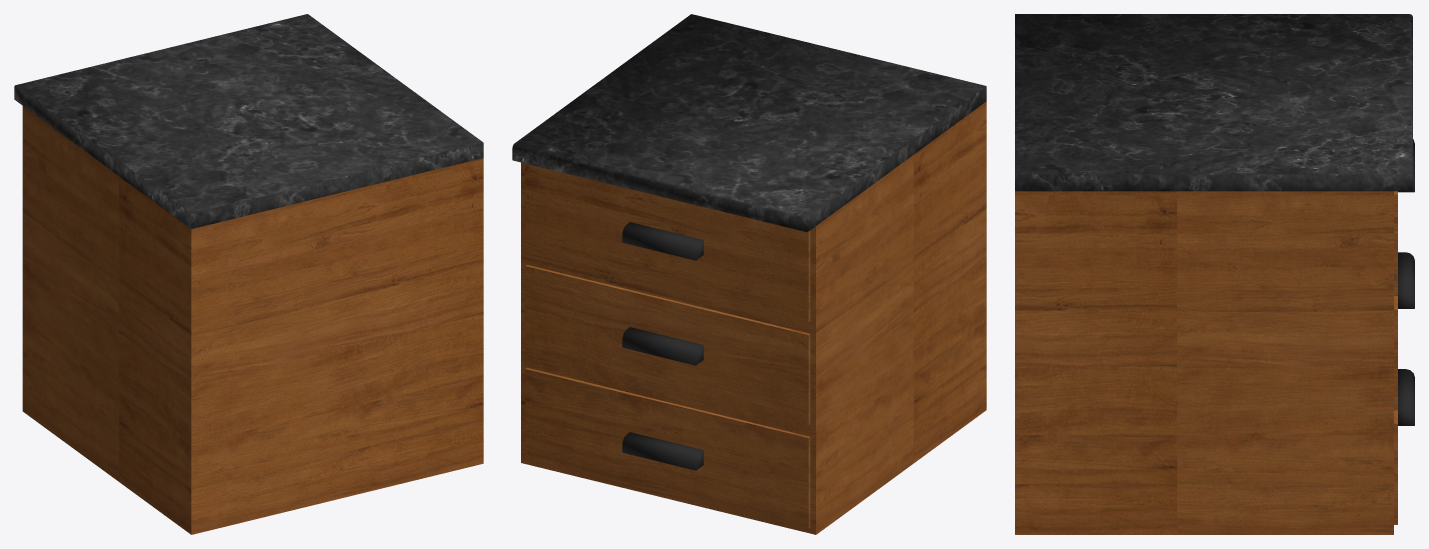
File: counter3Drawers.fbx
3 views of the same model, side by side, from view 1: azimuth 30°, elevation 25°; view 2: azimuth 150°, elevation 25°; view 3: azimuth 270°, elevation 25° (orthographic). The views are drawn at different scales.
Parts seen in each view (by area): view 1: Cube; view 2: Cube, Cube.001; view 3: Cube, Cube.001.
Part boxes in pixels (left/top/right/bottom): Cube: left=14, top=14, right=483, bottom=534; Cube: left=512, top=14, right=986, bottom=534; Cube.001: left=622, top=222, right=703, bottom=470; Cube: left=1015, top=14, right=1412, bottom=534; Cube.001: left=1398, top=139, right=1414, bottom=425.
Bounding box in the file's own units: 200 × 210 × 211.
